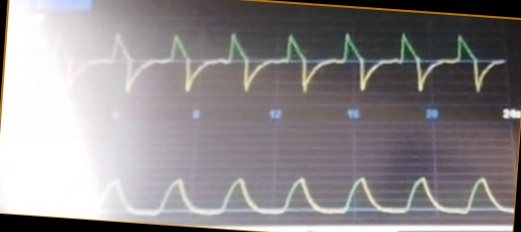Normal Flow: (60, 23, 506, 100)
Normal Volume: (93, 162, 511, 218)
